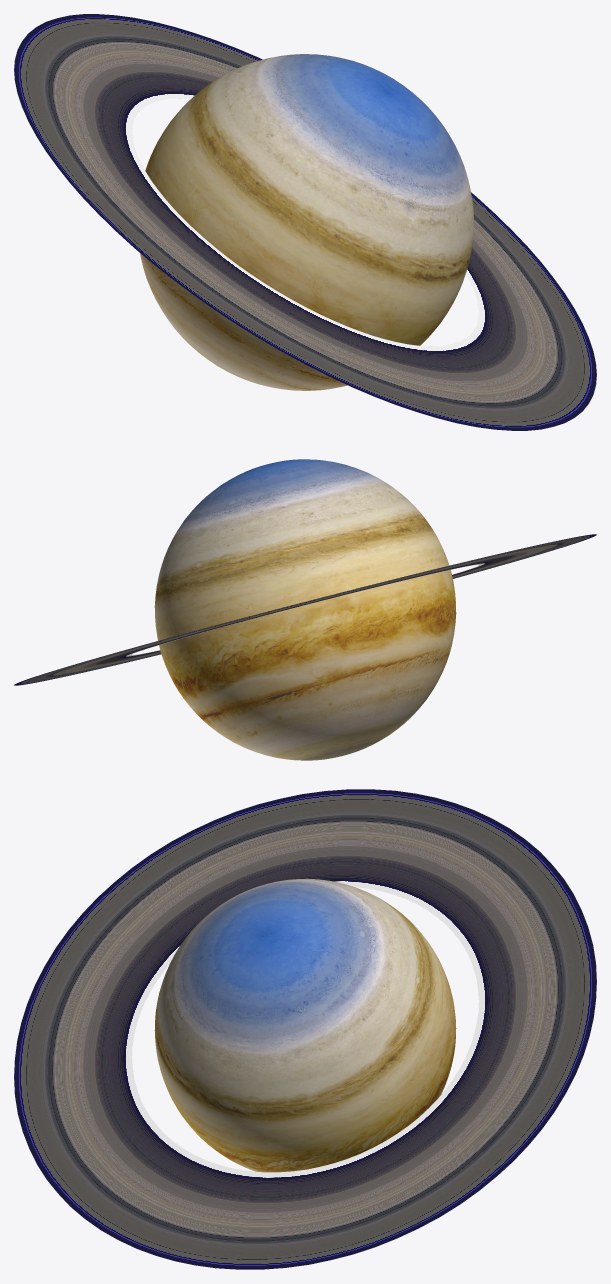
File: qiu_02.fbx
3 renders of one model, top to bottom at view 1: azimuth 30°, elevation 25°; view 2: azimuth 150°, elevation 25°; view 3: azimuth 270°, elevation 25°, orthographic. The views are drawn at different scales.
Parts seen in each view (by area): view 1: qiu_08, qiu_09; view 2: qiu_08, qiu_09; view 3: qiu_09, qiu_08.
Boxes of the visible parts, left/top/right/bottom form: qiu_08: left=140, top=54, right=473, bottom=390; qiu_09: left=14, top=14, right=596, bottom=430; qiu_08: left=154, top=459, right=456, bottom=760; qiu_09: left=14, top=534, right=596, bottom=685; qiu_09: left=14, top=789, right=596, bottom=1269; qiu_08: left=154, top=878, right=456, bottom=1172.
Bounding box in the file's own units: 25.5 × 14.16 × 27.4.
Materials: 2 (2 with a texture image).
